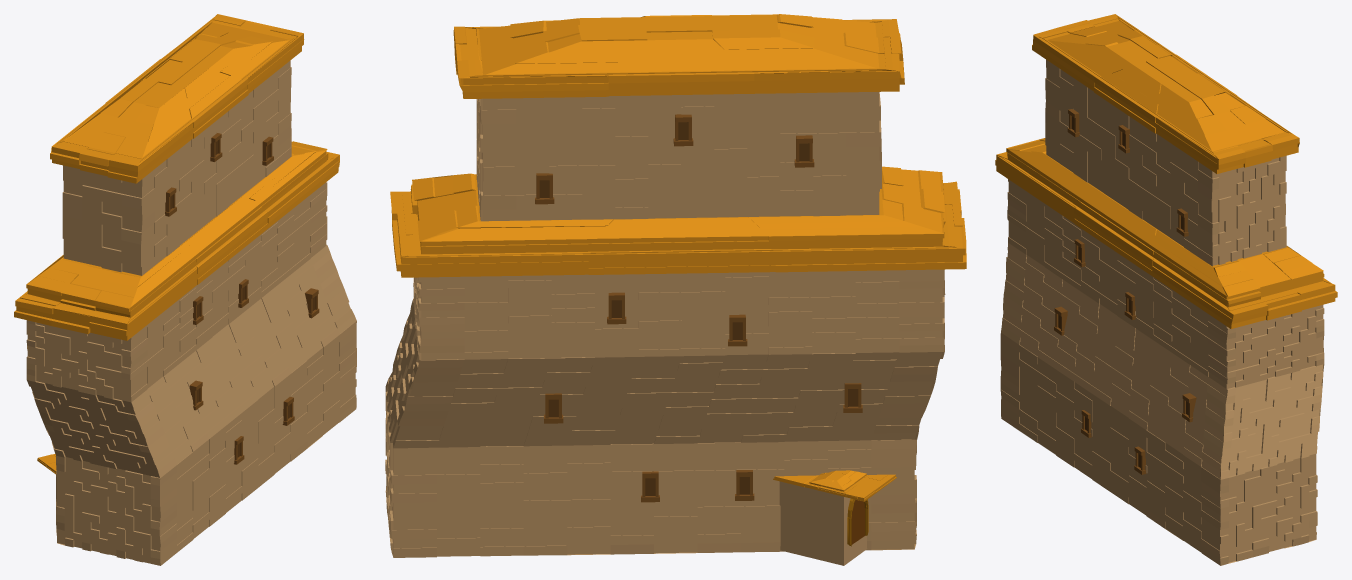
The model's file is Apartment_Building_6.fbx.
The picture shows the model from 3 angles, left to right: view 1: azimuth 30°, elevation 25°; view 2: azimuth 150°, elevation 25°; view 3: azimuth 270°, elevation 25°; orthographic projection. The views are drawn at different scales.
Visible parts, largest first — view 1: Cube.534; view 2: Cube.534, Cube.561; view 3: Cube.534.
Part boxes in pixels (box(x1,y1,x2,y2)): Cube.534: box(14, 14, 356, 565); Cube.534: box(385, 14, 966, 565); Cube.561: box(847, 498, 868, 546); Cube.534: box(995, 14, 1337, 565).
Size of the model in its own units: 2964 by 2850 by 2220.
